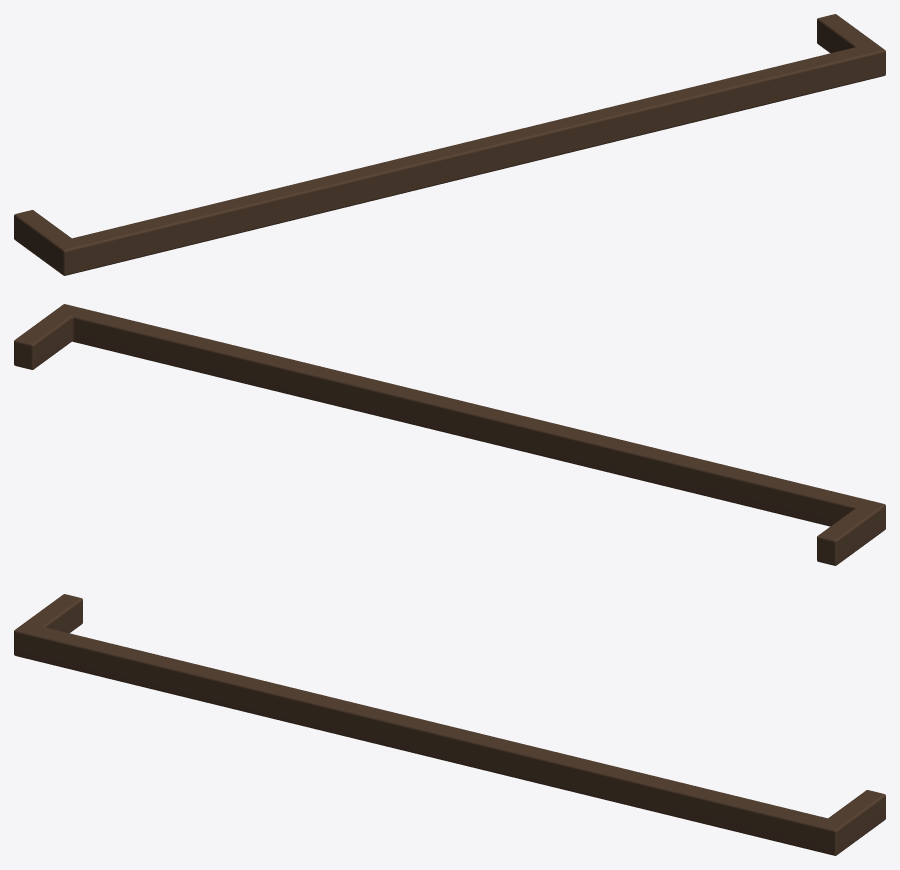
File: eurofit-h-61415-320orb-v3.glb
3 views of the same model, one above another, from view 1: azimuth 30°, elevation 25°; view 2: azimuth 150°, elevation 25°; view 3: azimuth 330°, elevation 25° (orthographic).
Visible parts, largest first — view 1: Continuous U grip and legs; view 2: Continuous U grip and legs; view 3: Continuous U grip and legs.
Boxes of the visible parts, bbox=[...] form: Continuous U grip and legs: bbox=[14, 14, 885, 275]; Continuous U grip and legs: bbox=[14, 304, 885, 565]; Continuous U grip and legs: bbox=[14, 594, 885, 855].
Bounding box in the file's own units: 0.328 × 0.01 × 0.035.
